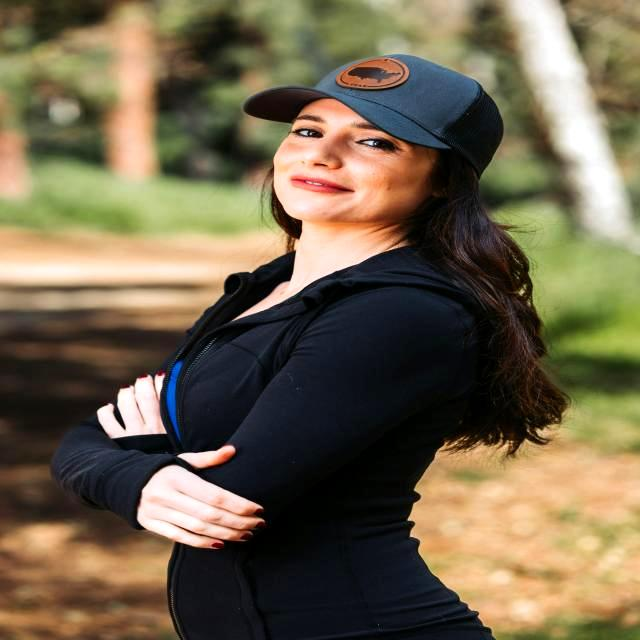no_hard_hat: (243, 54, 503, 175)
person: (44, 52, 561, 640)
